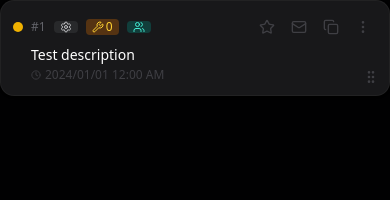
Test case: TaskList › Overflow menu › opens overflow menu on click
Click the button titled "More actions".
click(363, 27)  # box 349,13 -> 377,41
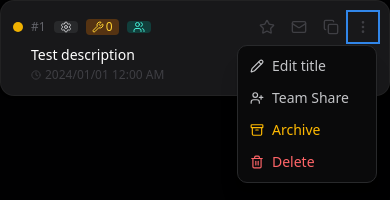
Expected: the button "Edit title" is shown, 238,50 -> 376,82
Expected: the button "Archive" is shown, 238,114 -> 376,146
